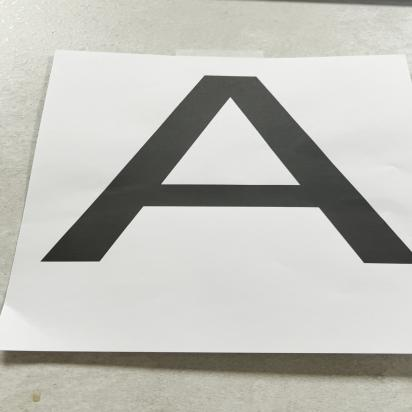seat: (27, 38, 412, 326)
